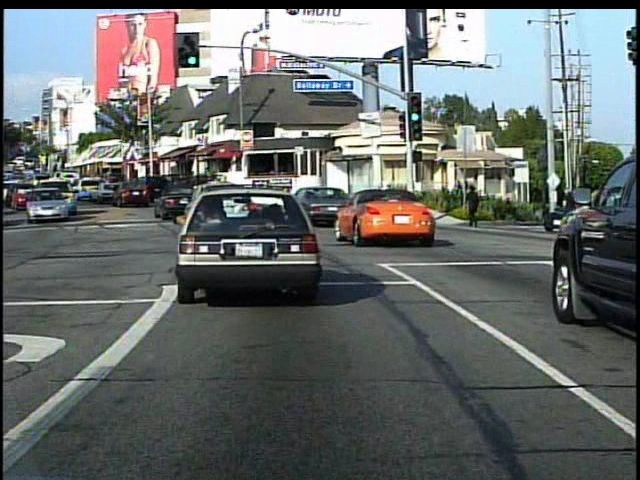person: (553, 183, 576, 243), (461, 182, 483, 230)
